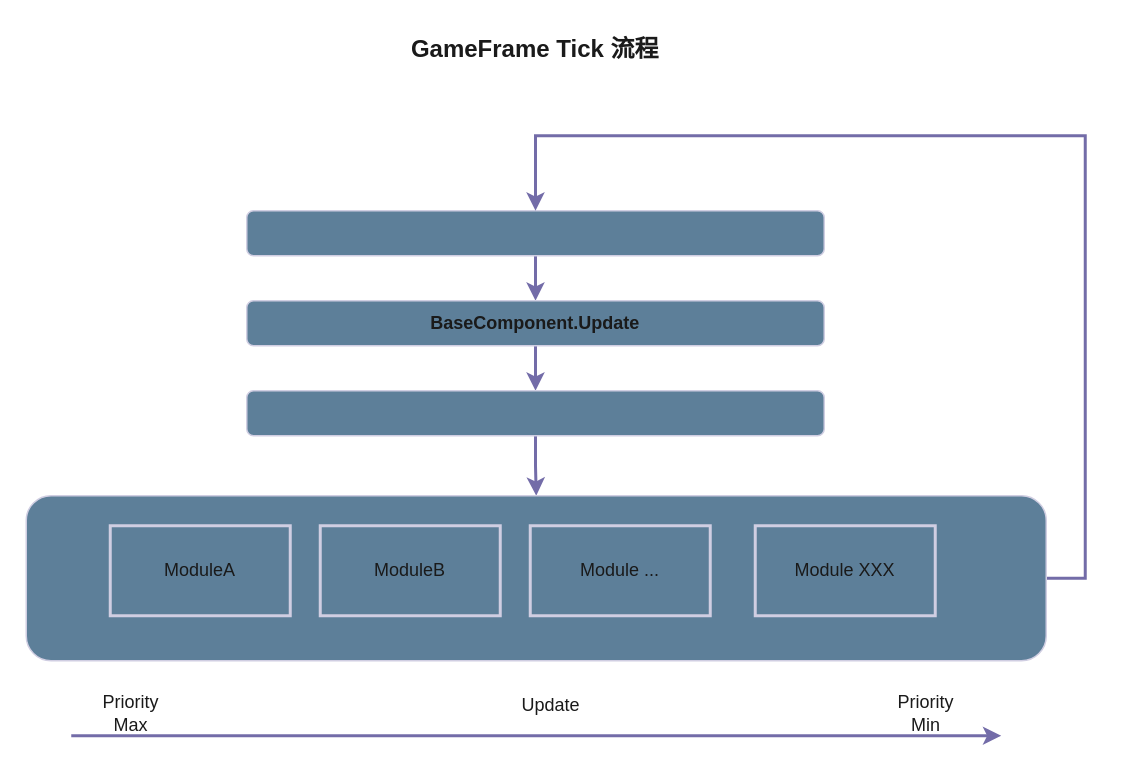
Image size: 1125x774. Some labels were removed from this diagram. Here are the shapes that lost their labels. From the top down, the centre of each, then its label:
At [534,232]: "MonoBehavior.Update".
At [534,412]: "GameFrameworkEntry.Update".
